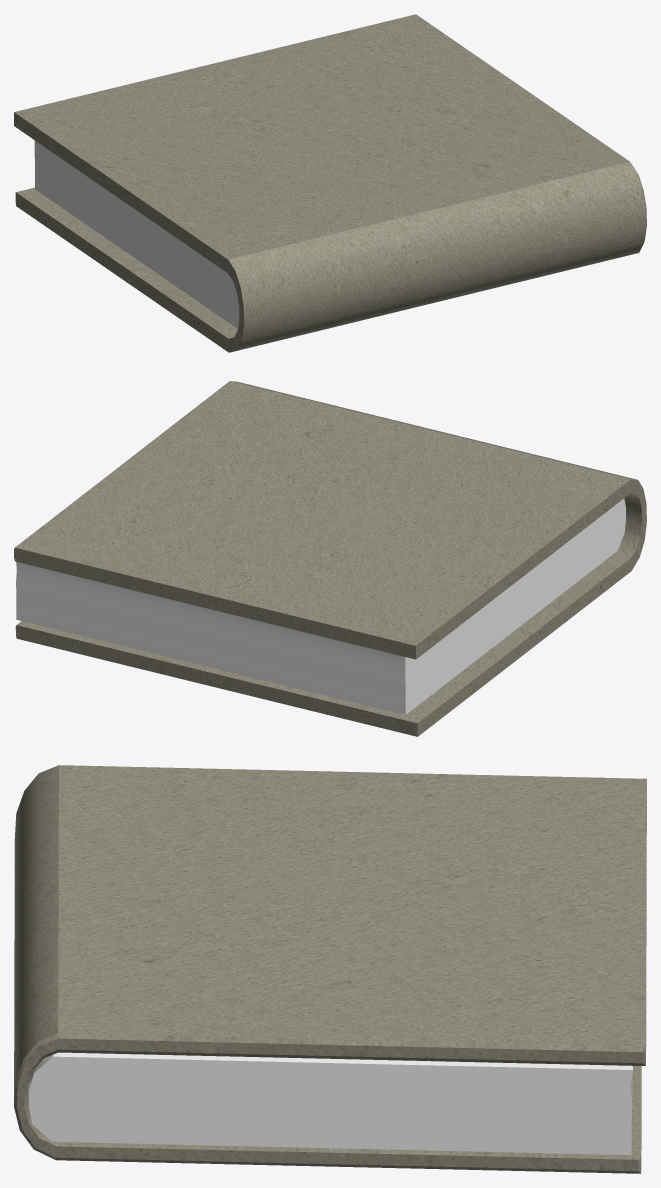
The model's file is Book.fbx.
The picture shows the model from 3 angles, top to bottom: view 1: azimuth 30°, elevation 25°; view 2: azimuth 150°, elevation 25°; view 3: azimuth 270°, elevation 25°; orthographic projection. The views are drawn at different scales.
Visible parts, largest first — view 1: jacsroomint_c_lo_book_34.002; view 2: jacsroomint_c_lo_book_34.002; view 3: jacsroomint_c_lo_book_34.002.
Part boxes in pixels (<box>): jacsroomint_c_lo_book_34.002: <box>14,14,646,352</box>; jacsroomint_c_lo_book_34.002: <box>14,381,646,736</box>; jacsroomint_c_lo_book_34.002: <box>14,765,646,1173</box>.
Bounding box in the file's own units: 0.339 × 0.0817 × 0.3342.
